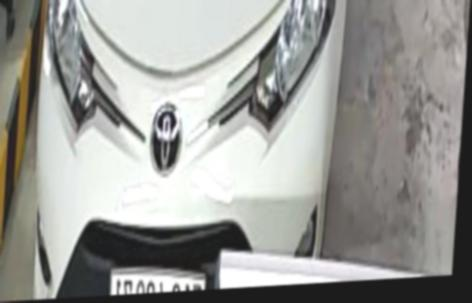License_Plate: (106, 265, 204, 295)
